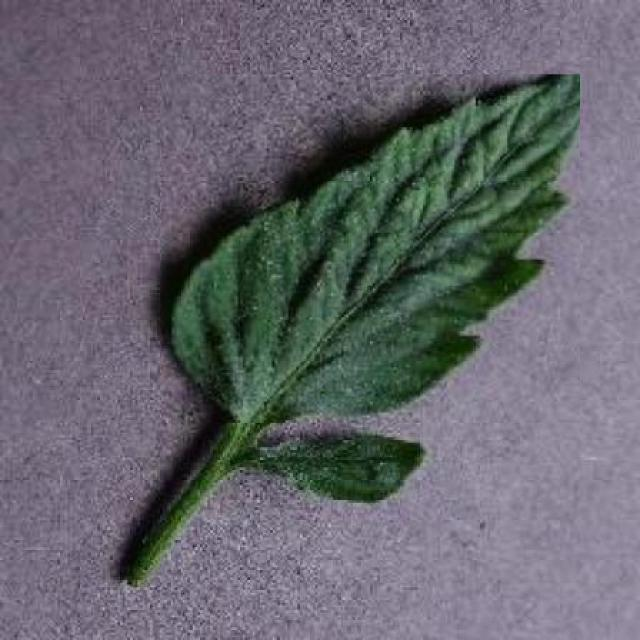Mosaic Virus: (161, 75, 580, 422)
